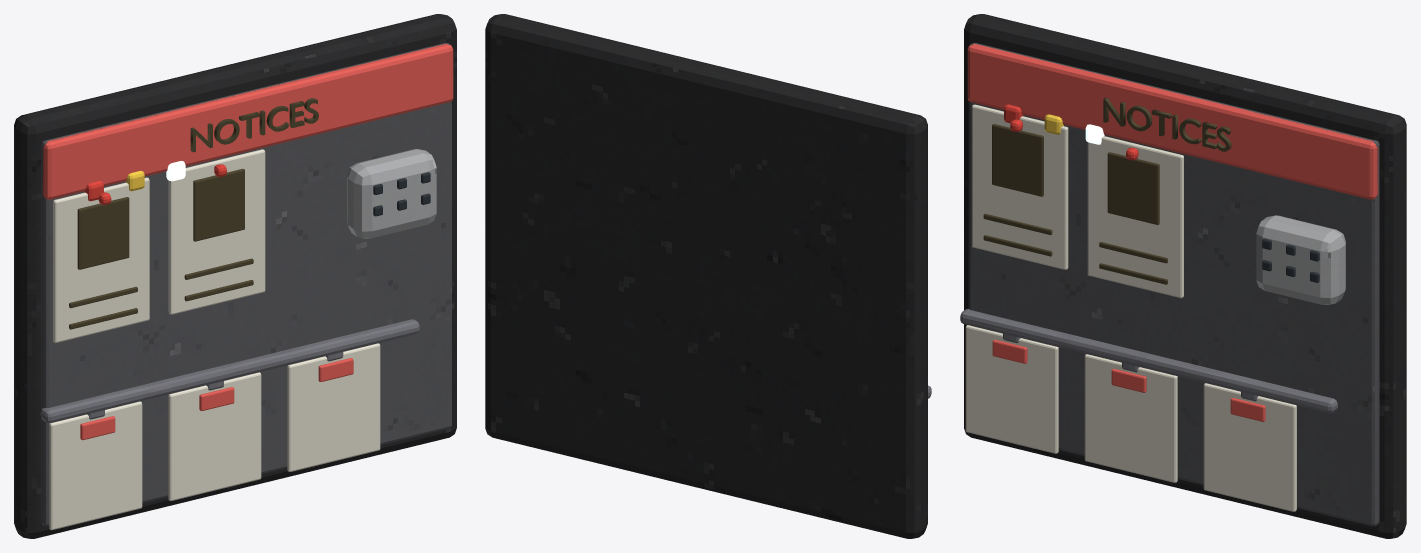
File: decor_sec_notice_board.glb
3 renders of one model, left to right at view 1: azimuth 30°, elevation 25°; view 2: azimuth 150°, elevation 25°; view 3: azimuth 330°, elevation 25°, orthographic.
Parts seen in each view (by area): view 1: DEC_SecNoticeBoard__Board_Face, DEC_SecNoticeBoard__Board_Back, DEC_SecNoticeBoard__Board_Header, DEC_SecNoticeBoard__Notice_2, DEC_SecNoticeBoard__Notice_1, DEC_SecNoticeBoard__Incident_Sheet_2, DEC_SecNoticeBoard__Incident_Sheet_3, DEC_SecNoticeBoard__Incident_Sheet_1, DEC_SecNoticeBoard__Intercom, DEC_SecNoticeBoard__Sheet_Rail, DEC_SecNoticeBoard__Notice_Portrait_1, DEC_SecNoticeBoard__Notice_Portrait_2 (+4 smaller); view 2: DEC_SecNoticeBoard__Board_Back; view 3: DEC_SecNoticeBoard__Board_Face, DEC_SecNoticeBoard__Board_Back, DEC_SecNoticeBoard__Board_Header, DEC_SecNoticeBoard__Notice_2, DEC_SecNoticeBoard__Notice_1, DEC_SecNoticeBoard__Incident_Sheet_1, DEC_SecNoticeBoard__Incident_Sheet_3, DEC_SecNoticeBoard__Incident_Sheet_2, DEC_SecNoticeBoard__Intercom, DEC_SecNoticeBoard__Sheet_Rail, DEC_SecNoticeBoard__Notice_Portrait_2, DEC_SecNoticeBoard__Notice_Portrait_1 (+4 smaller).
Boxes of the visible parts, box(x1,y1,x2,y2) form: DEC_SecNoticeBoard__Board_Face: box(41, 43, 451, 526); DEC_SecNoticeBoard__Board_Back: box(14, 14, 456, 538); DEC_SecNoticeBoard__Board_Header: box(42, 43, 453, 199); DEC_SecNoticeBoard__Notice_2: box(168, 149, 265, 314); DEC_SecNoticeBoard__Notice_1: box(53, 177, 149, 342); DEC_SecNoticeBoard__Incident_Sheet_2: box(168, 372, 261, 500); DEC_SecNoticeBoard__Incident_Sheet_3: box(287, 343, 380, 471); DEC_SecNoticeBoard__Incident_Sheet_1: box(49, 401, 142, 530); DEC_SecNoticeBoard__Intercom: box(347, 149, 436, 238); DEC_SecNoticeBoard__Sheet_Rail: box(40, 319, 419, 423); DEC_SecNoticeBoard__Notice_Portrait_1: box(77, 197, 129, 269); DEC_SecNoticeBoard__Notice_Portrait_2: box(193, 169, 244, 241); DEC_SecNoticeBoard__Board_Back: box(485, 14, 927, 538); DEC_SecNoticeBoard__Board_Face: box(968, 43, 1379, 526); DEC_SecNoticeBoard__Board_Back: box(964, 14, 1406, 538); DEC_SecNoticeBoard__Board_Header: box(967, 43, 1378, 199); DEC_SecNoticeBoard__Notice_2: box(1087, 136, 1183, 298); DEC_SecNoticeBoard__Notice_1: box(972, 104, 1068, 269); DEC_SecNoticeBoard__Incident_Sheet_1: box(965, 325, 1058, 453); DEC_SecNoticeBoard__Incident_Sheet_3: box(1203, 383, 1296, 511); DEC_SecNoticeBoard__Incident_Sheet_2: box(1084, 354, 1177, 482); DEC_SecNoticeBoard__Intercom: box(1256, 215, 1345, 304); DEC_SecNoticeBoard__Sheet_Rail: box(960, 308, 1337, 413); DEC_SecNoticeBoard__Notice_Portrait_2: box(1107, 152, 1159, 224); DEC_SecNoticeBoard__Notice_Portrait_1: box(992, 124, 1043, 196).
Bounding box in the file's own units: 1.28 × 1.18 × 0.2035.
Materials: 11 (4 with a texture image).
